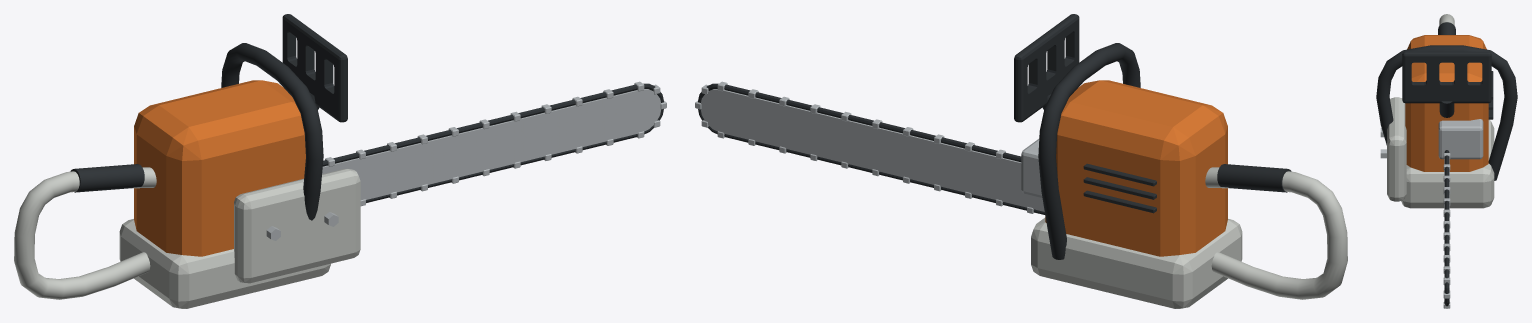
File: A-NEW-20261026-CHAINSAW-001_LOD2_R2.fbx
3 renders of one model, left to right at view 1: azimuth 30°, elevation 25°; view 2: azimuth 150°, elevation 25°; view 3: azimuth 270°, elevation 25°, orthographic. The views are drawn at different scales.
Parts seen in each view (by area): view 1: engine outer housing, rounded guide bar, side sprocket cover, lower chassis, rear loop handle, slotted upright handguard, arched front grip, continuous dark chain, rear dark top grip; view 2: engine outer housing, rounded guide bar, lower chassis, rear loop handle, arched front grip, slotted upright handguard, continuous dark chain, rear dark top grip, muffler-like outer box, external vent fin, external vent fin.002, external vent fin.001; view 3: engine outer housing, slotted upright handguard, lower chassis, arched front grip, side sprocket cover, muffler-like outer box, continuous dark chain, handguard root, rear dark top grip, rounded guide bar, rear loop handle.
Part boxes in pixels (x1,y1,x2,y2): engine outer housing: (134,80,305,256); rounded guide bar: (322,89,660,200); side sprocket cover: (234,168,360,283); lower chassis: (119,219,330,308); rear loop handle: (14,167,156,299); slotted upright handguard: (282,14,347,122); arched front grip: (221,43,323,220); continuous dark chain: (322,83,663,202); rear dark top grip: (70,164,144,192); engine outer housing: (1045,80,1227,256); rounded guide bar: (701,89,1044,211); lower chassis: (1031,217,1242,308); rear loop handle: (1205,167,1347,299); arched front grip: (1038,43,1140,259); slotted upright handguard: (1014,14,1079,122); continuous dark chain: (698,83,1045,214); rear dark top grip: (1217,164,1291,192); muffler-like outer box: (1021,138,1042,197); external vent fin: (1083,190,1156,213); external vent fin.002: (1083,163,1156,186); external vent fin.001: (1083,177,1156,199); engine outer housing: (1405,35,1488,171); slotted upright handguard: (1402,51,1491,103); lower chassis: (1401,119,1494,208); arched front grip: (1376,45,1517,180); side sprocket cover: (1387,97,1406,201); muffler-like outer box: (1438,119,1483,159); continuous dark chain: (1444,150,1449,306); handguard root: (1439,101,1454,117); rear dark top grip: (1438,22,1455,34); rounded guide bar: (1444,159,1449,302); rear loop handle: (1439,14,1454,25).
Bounding box in the file's own units: 101 × 32.5 × 25.4.
